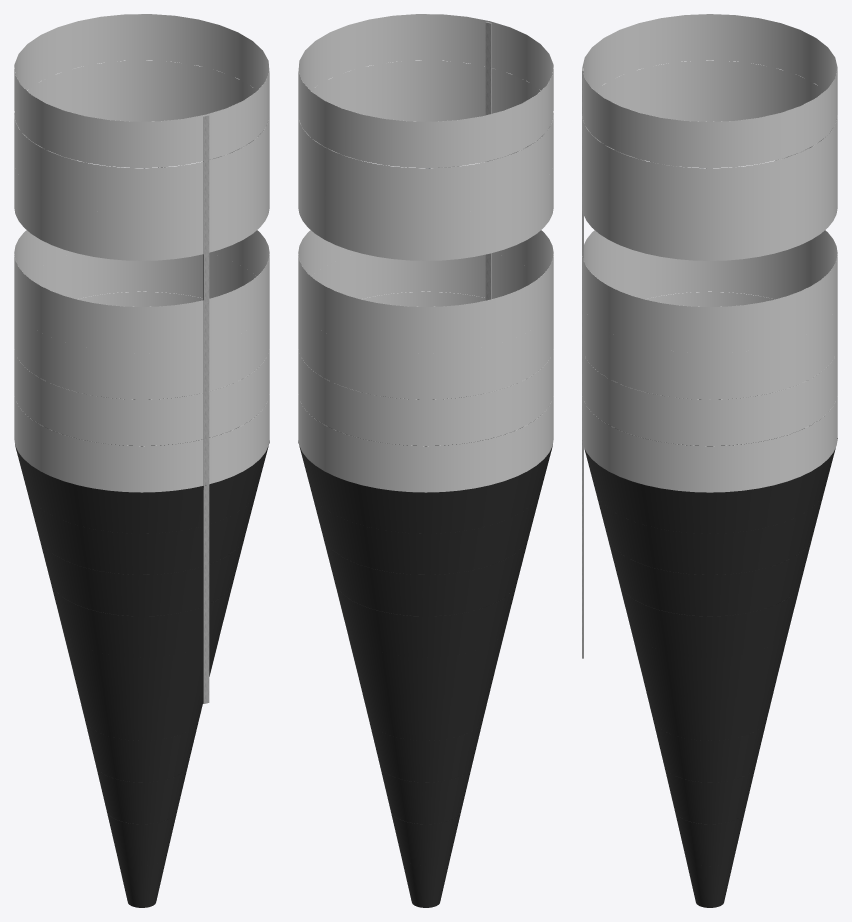
The model's file is WindTunnel.FBX.
The picture shows the model from 3 angles, left to right: view 1: azimuth 30°, elevation 25°; view 2: azimuth 150°, elevation 25°; view 3: azimuth 270°, elevation 25°; orthographic projection.
Visible parts, largest first — view 1: walls14, walls04, walls03, walls05, walls02, walls, walls08, walls06, wallbox; view 2: walls14, walls04, walls03, walls05, walls02, walls, walls08, walls06, wallbox; view 3: walls14, walls04, walls03, walls05, walls02, walls, walls08, walls06, wallbox.
Part boxes in pixels (x1=…): walls14: x1=15, y1=396, x2=269, y2=907; walls04: x1=14, y1=14, x2=269, y2=167; walls03: x1=14, y1=60, x2=269, y2=214; walls05: x1=14, y1=253, x2=269, y2=399; walls02: x1=14, y1=230, x2=269, y2=353; walls: x1=14, y1=106, x2=269, y2=260; walls08: x1=14, y1=291, x2=269, y2=445; walls06: x1=14, y1=383, x2=269, y2=492; wallbox: x1=203, y1=115, x2=209, y2=703; walls14: x1=298, y1=396, x2=552, y2=907; walls04: x1=298, y1=14, x2=553, y2=167; walls03: x1=298, y1=60, x2=553, y2=214; walls05: x1=298, y1=253, x2=553, y2=399; walls02: x1=298, y1=230, x2=553, y2=353; walls: x1=298, y1=106, x2=553, y2=260; walls08: x1=298, y1=291, x2=553, y2=445; walls06: x1=298, y1=383, x2=553, y2=492; wallbox: x1=485, y1=22, x2=491, y2=300; walls14: x1=584, y1=395, x2=837, y2=907; walls04: x1=582, y1=14, x2=837, y2=168; walls03: x1=582, y1=60, x2=837, y2=214; walls05: x1=582, y1=253, x2=837, y2=399; walls02: x1=582, y1=230, x2=837, y2=353; walls: x1=582, y1=106, x2=837, y2=260; walls08: x1=582, y1=292, x2=837, y2=445; walls06: x1=582, y1=394, x2=837, y2=492; wallbox: x1=582, y1=68, x2=583, y2=658.
Bounding box in the file's own units: 25056 × 90088 × 25056.
